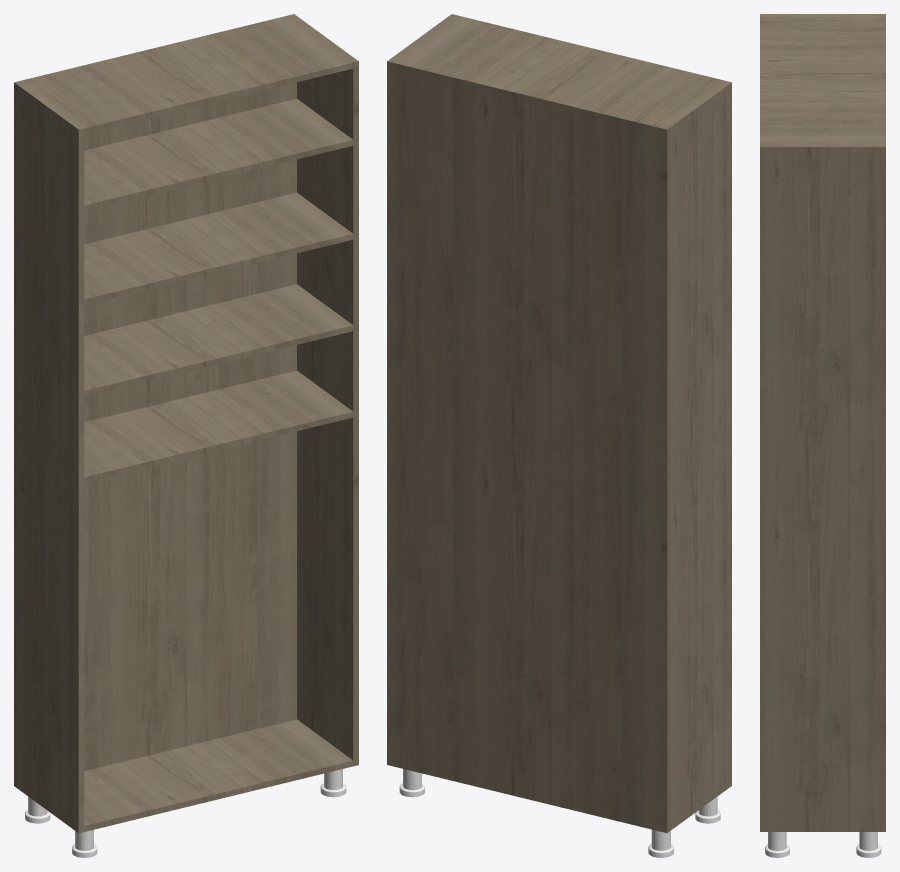
3 views of the same model, side by side, from view 1: azimuth 30°, elevation 25°; view 2: azimuth 150°, elevation 25°; view 3: azimuth 270°, elevation 25° (orthographic). The views are drawn at different scales.
Visible parts, largest first — view 1: Box001, Box016, Box018, Box019, Box017; view 2: Box001; view 3: Box001, Cylinder004, Cylinder005.
Part boxes in pixels (x1,y1,x2,y2): Box001: (14,14,358,833); Box016: (84,370,353,482); Box018: (84,98,353,211); Box019: (84,192,353,305); Box017: (84,284,353,396); Box001: (387,14,731,832); Box001: (760,14,885,831); Cylinder004: (856,832,881,857); Cylinder005: (765,832,789,857).
Size of the model in its own units: 1 by 2.5 by 0.4001.
2 materials, 1 textured.
